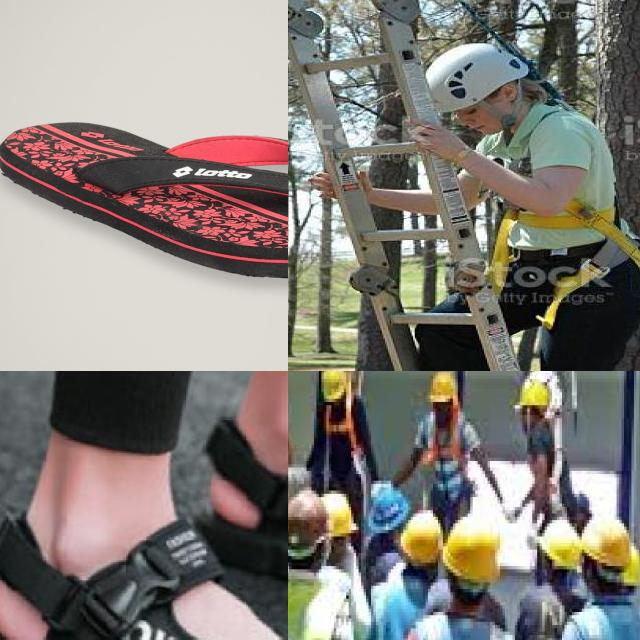Harness: (486, 115, 640, 307), (317, 400, 375, 531), (417, 413, 478, 524)
Sandals: (0, 475, 288, 640), (0, 120, 288, 280), (145, 371, 288, 640)
